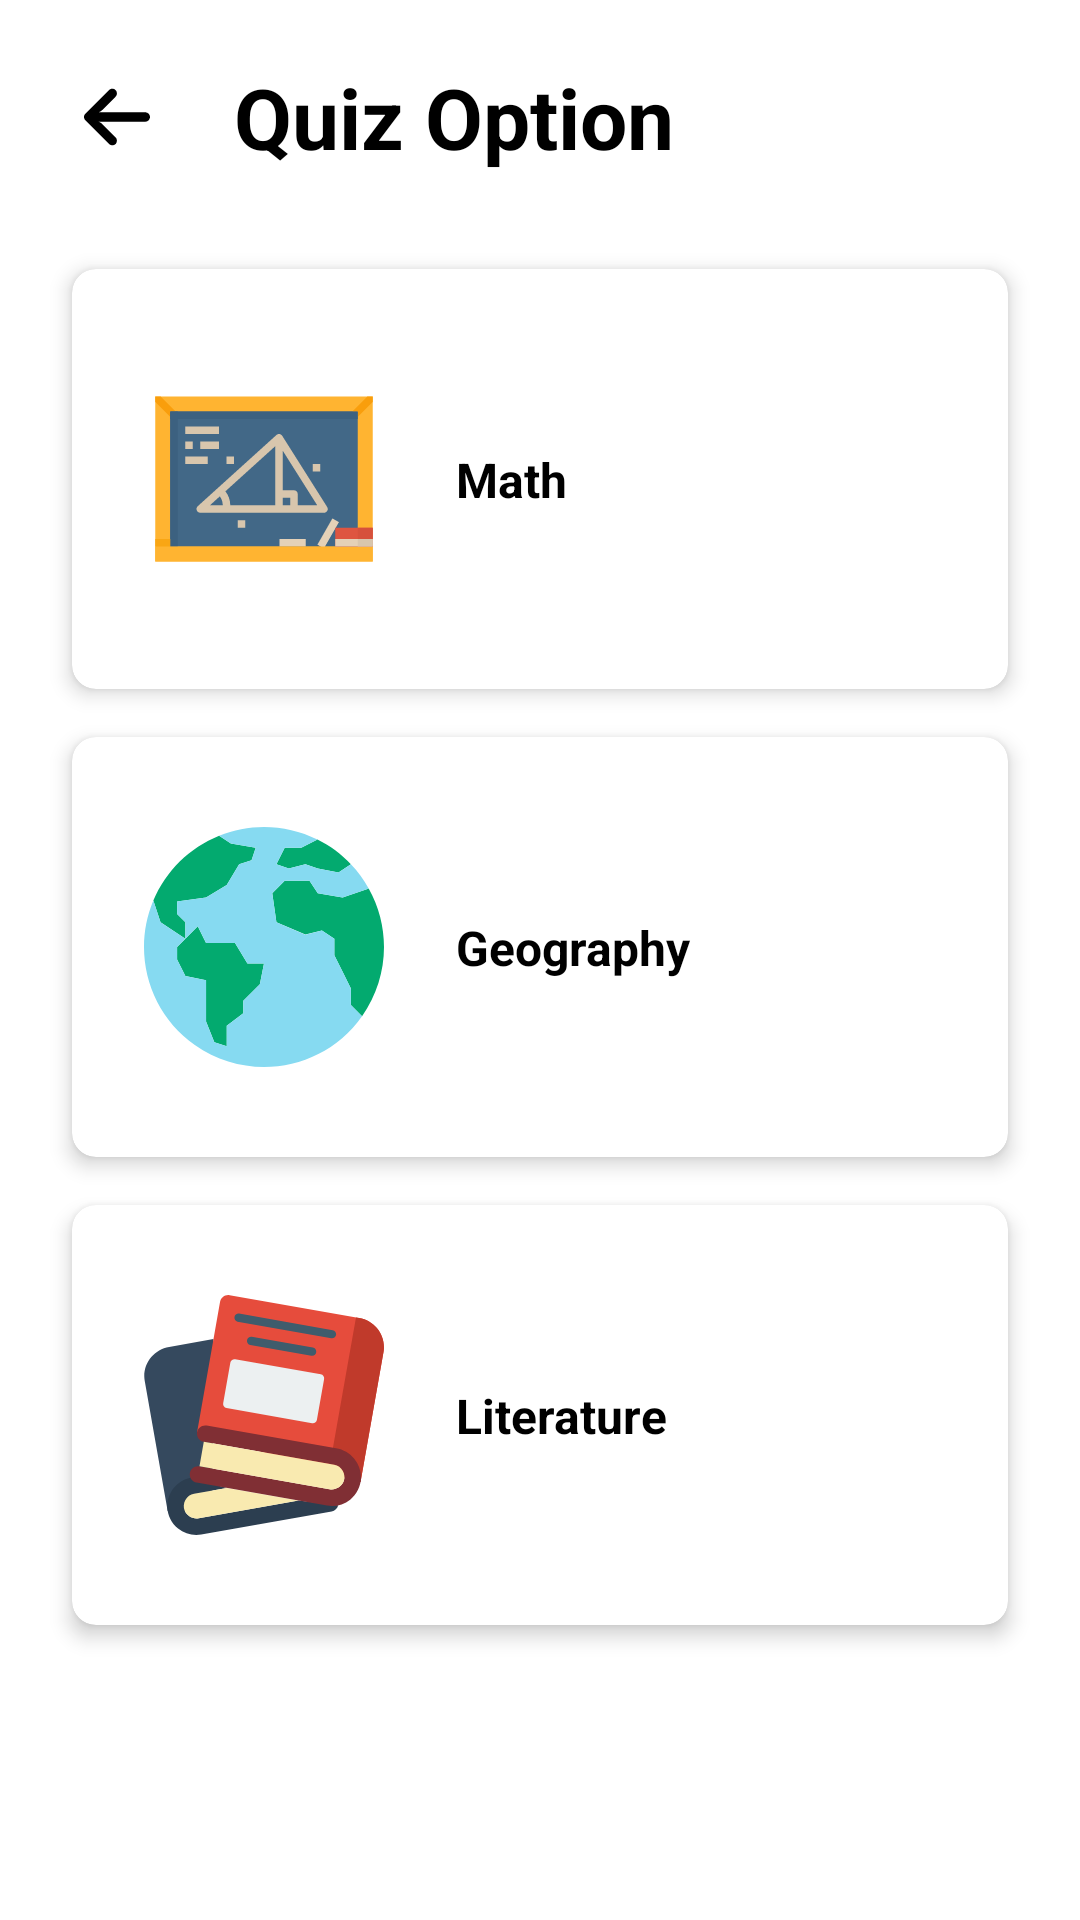

Icon bounding boxes for this 1080px×1920px phone screenshot, format (x1, y1, x2, y2):
arrow: (84, 88, 150, 146)
blackboard: (155, 396, 373, 562)
book: (144, 1295, 384, 1535)
worldwide: (144, 827, 384, 1067)
